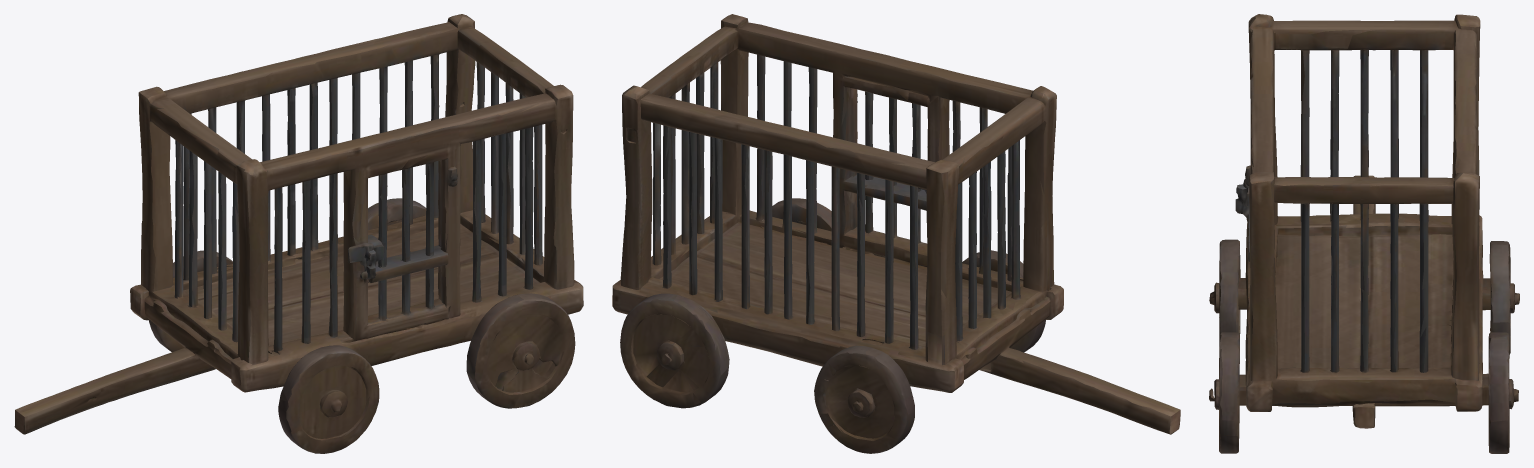
Rendered from cage_cart.glb.
3 views of the same model, side by side, from view 1: azimuth 30°, elevation 25°; view 2: azimuth 150°, elevation 25°; view 3: azimuth 270°, elevation 25° (orthographic). The views are drawn at different scales.
Parts seen in each view (by area): view 1: geometry_0; view 2: geometry_0; view 3: geometry_0.
Part boxes in pixels (x1=…): geometry_0: x1=14, y1=14, x2=583, y2=453; geometry_0: x1=612, y1=14, x2=1180, y2=453; geometry_0: x1=1209, y1=14, x2=1519, y2=453.
Bounding box in the file's own units: 1.8 × 0.995 × 0.9193.
Materials: 1 (1 with a texture image).
